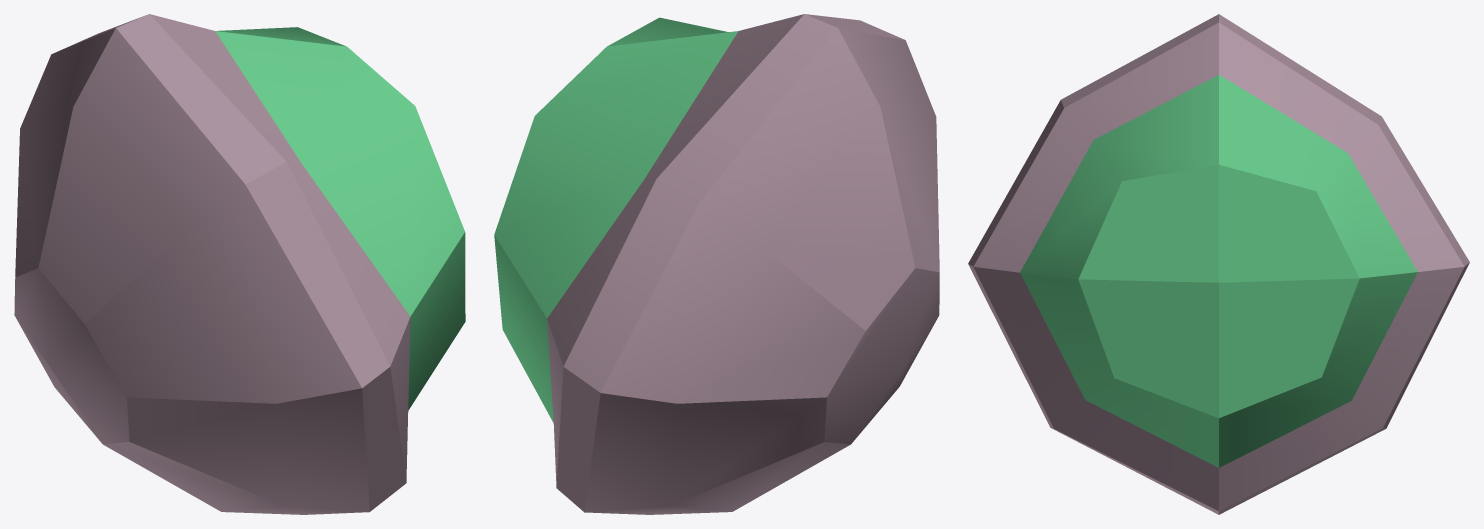
Rendered from Cup Cake Ammo.fbx.
3 renders of one model, left to right at view 1: azimuth 30°, elevation 25°; view 2: azimuth 150°, elevation 25°; view 3: azimuth 270°, elevation 25°, orthographic. The views are drawn at different scales.
Visible parts, largest first — view 1: polySurface463; view 2: polySurface463; view 3: polySurface463.
Boxes of the visible parts, box(x1,y1,x2,y2) form: polySurface463: box(14, 14, 465, 514); polySurface463: box(494, 14, 939, 514); polySurface463: box(968, 14, 1469, 514).
Bounding box in the file's own units: 0.1197 × 0.161 × 0.1695.
